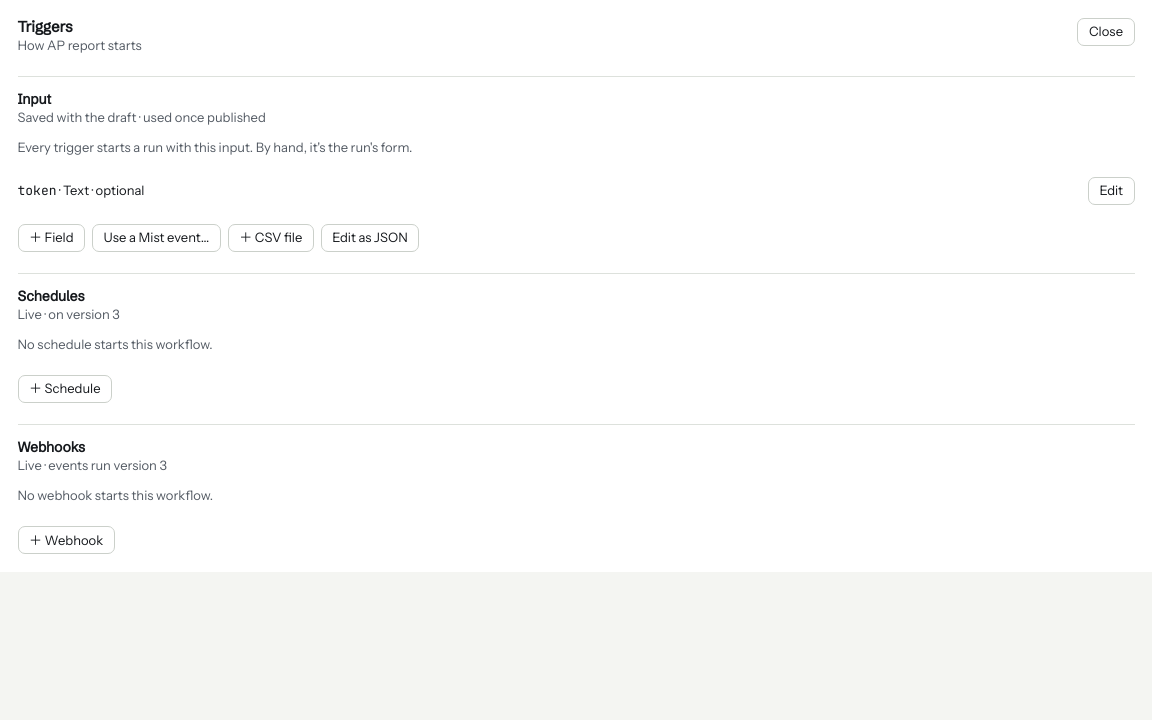
Scenario: the input as form fields › gives a sensitive field no default and no Choice: either would be written into the workflow
Expected: the heading "Triggers" is shown, [18,16,72,36]
Click the button with aria-label "Edit token".
click(1111, 190)  # box [1088,176,1134,204]
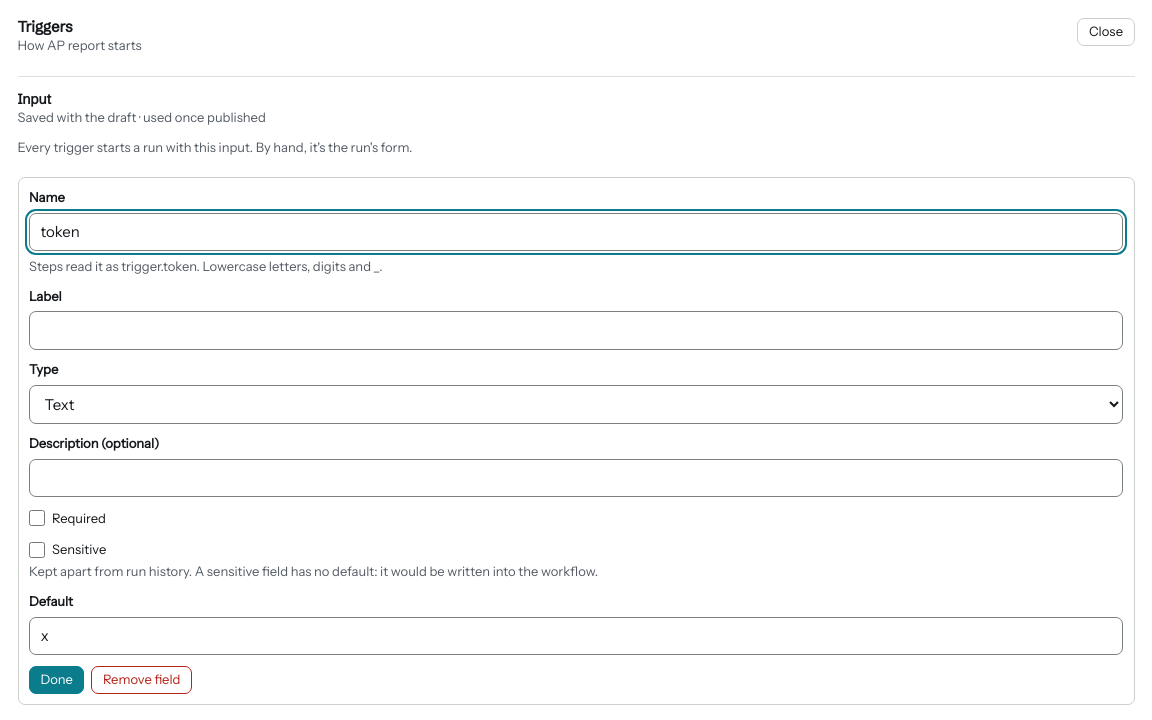
Click the checkbox labelled "Sensitive".
click(37, 550)  # box [29,542,45,558]
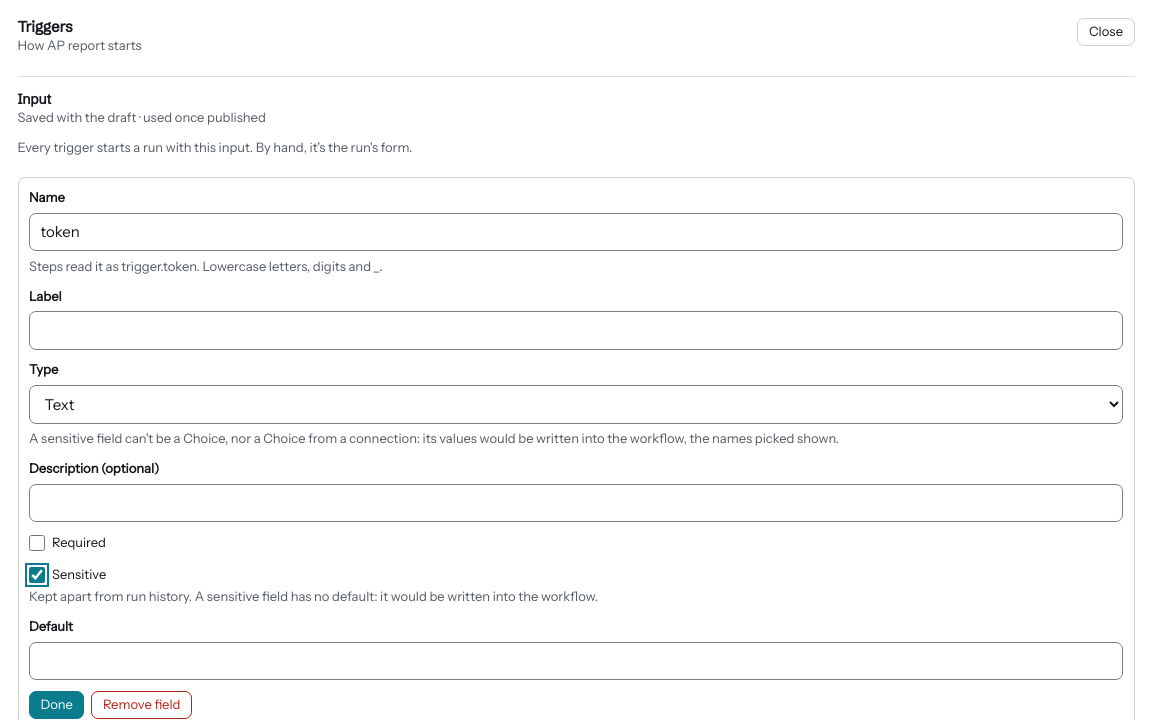
Expected: the field labelled "Default" is disabled, [29,642,1123,680]
